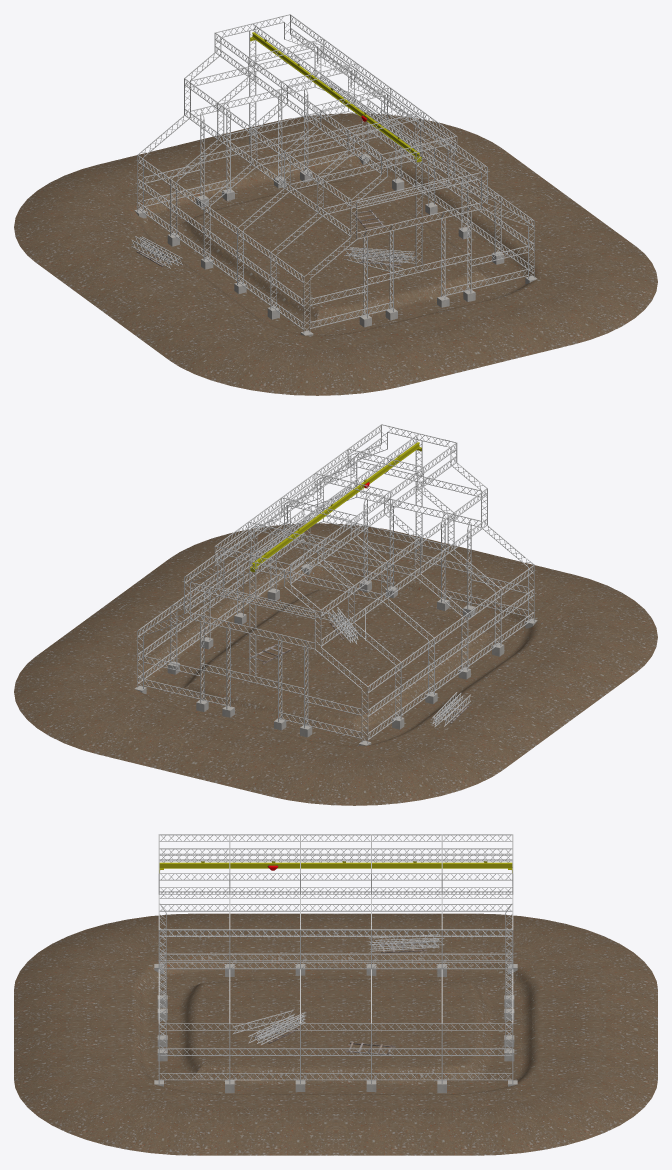
The model's file is site.glb.
3 renders of one model, top to bottom at view 1: azimuth 30°, elevation 25°; view 2: azimuth 150°, elevation 25°; view 3: azimuth 270°, elevation 25°, orthographic. The views are drawn at different scales.
Visible parts, largest first — view 1: Material2 (×3); view 2: Material2 (×3); view 3: Material2 (×4).
Part boxes in pixels (x1,y1,x2,y2): Material2 (×3): [14, 14, 657, 395]; Material2 (×3): [14, 424, 657, 805]; Material2 (×4): [14, 834, 657, 1155].
Size of the model in its own units: 1773 by 618 by 1995.
Materials: 4 (4 with a texture image).
